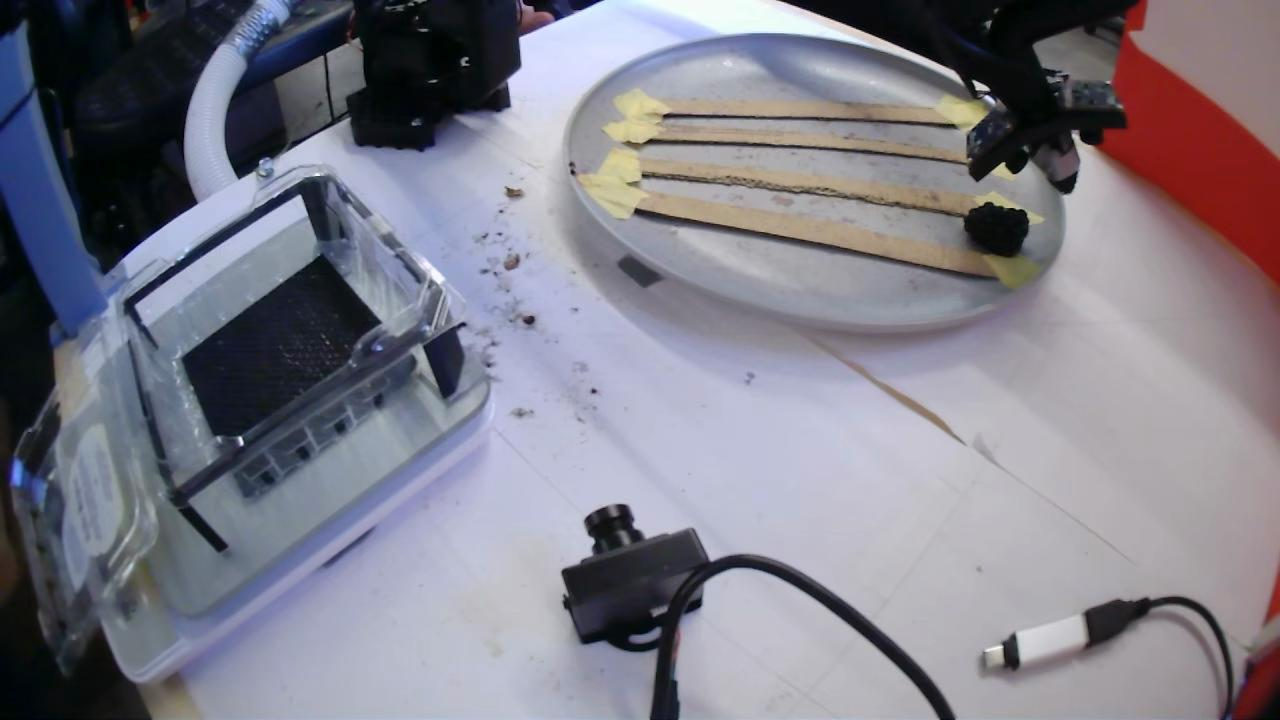berry: (964, 202, 1029, 257)
